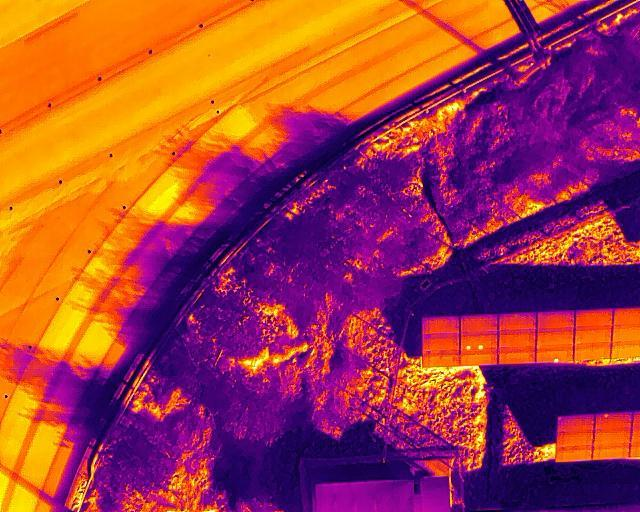Cell: (594, 412, 634, 430), (536, 348, 573, 363)
Cell-Multi: (459, 332, 498, 350)
No-Anomaly: (498, 313, 537, 332), (537, 330, 575, 349), (575, 308, 613, 327), (422, 333, 459, 352), (459, 315, 498, 333), (574, 326, 612, 344), (422, 316, 460, 334), (497, 332, 537, 349), (536, 313, 574, 330), (556, 445, 593, 462), (459, 349, 497, 365), (593, 430, 633, 445), (558, 415, 593, 432), (574, 343, 611, 359), (593, 444, 630, 460), (423, 350, 459, 366), (498, 349, 536, 364), (556, 432, 592, 445)
